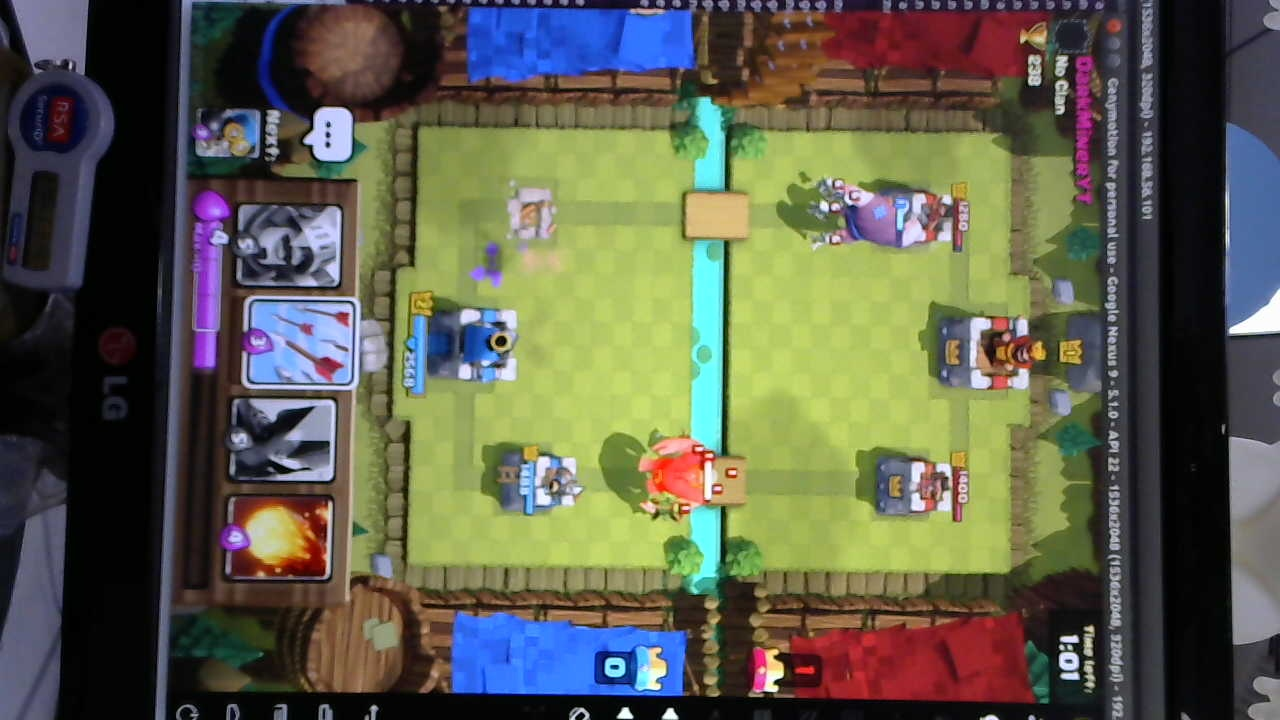arena: (500, 449, 582, 518)
darena: (505, 183, 554, 243)
earena: (866, 180, 950, 246), (873, 452, 953, 521)
eking: (937, 312, 1041, 393)
giant: (838, 182, 925, 249), (653, 432, 706, 516)
king: (429, 301, 523, 387)
skeleton: (811, 175, 858, 253)
speargoblin: (641, 496, 692, 526)
